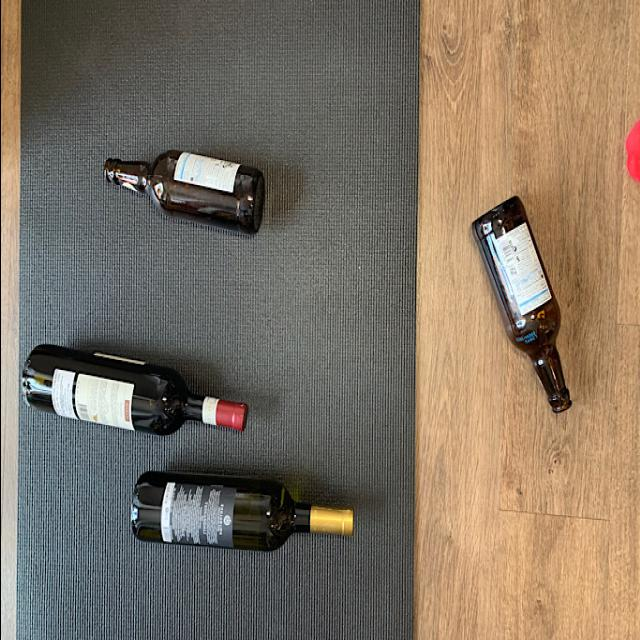Glass Bottle: (19, 342, 249, 443), (468, 198, 572, 418), (128, 465, 354, 561), (101, 141, 267, 239)
